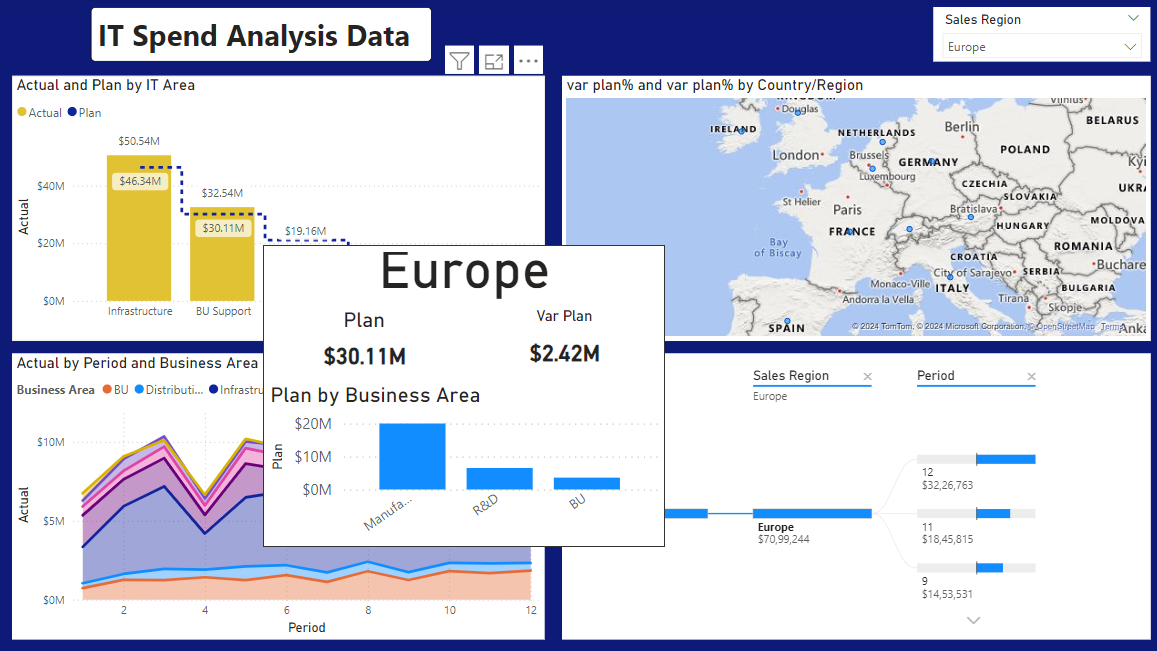

What the dashboard file says about the page in this screenshot:
{"tool":"powerbi","page":{"name":"Page 1","canvas":[1280,720],"ordinal":0},"visuals":[{"type":"lineStackedColumnComboChart","fields":{"Category":["IT Area.IT Area"],"Y":["IT Area.Actual"],"Y2":["IT Area.Plan"]},"box":[16.5,86.4,584.6,290.9],"z":0},{"type":"slicer","fields":{"Values":["Country Region.Sales Region"]},"box":[1027.8,11,238.8,60.4],"z":1000},{"type":"stackedAreaChart","fields":{"Category":["Date.Period"],"Series":["Business Area.Business Area"],"Y":["IT Area.Actual"]},"box":[16.5,391.1,584.6,314.2],"z":2000},{"type":"map","fields":{"Category":["Country Region.Country/Region"],"X":["IT Area.var plan%"]},"box":[620.2,86.4,646.3,290.9],"z":3000},{"type":"decompositionTreeVisual","fields":{"Analyze":["IT Area.var plan"],"ExplainBy":["Country Region.Sales Region","Date.Period"]},"box":[620.2,391.1,646.3,314.2],"z":4000},{"type":"textbox","box":[102.9,11,374.6,60.4],"z":4001}]}

Visuals, with their boxes in screenshot pixels (x1, y1, x2, y2), scaled from the page's 1280x720 canvas onto the 1157x651 screenshot:
lineStackedColumnComboChart - IT Area.IT Area x IT Area.Actual: pyautogui.locateOnScreen(15, 78, 543, 341)
slicer - Country Region.Sales Region: pyautogui.locateOnScreen(929, 10, 1145, 65)
stackedAreaChart - Date.Period x Business Area.Business Area: pyautogui.locateOnScreen(15, 354, 543, 638)
map - Country Region.Country/Region x IT Area.var plan%: pyautogui.locateOnScreen(561, 78, 1145, 341)
decompositionTreeVisual - IT Area.var plan x Country Region.Sales Region: pyautogui.locateOnScreen(561, 354, 1145, 638)
textbox: pyautogui.locateOnScreen(93, 10, 432, 65)
